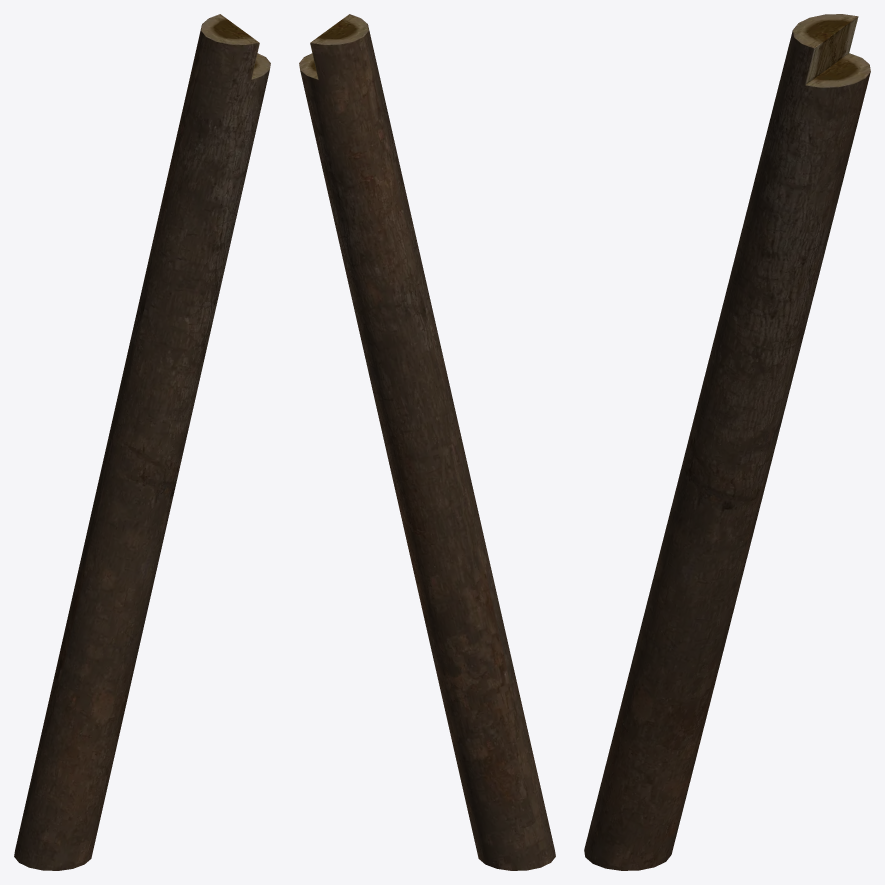
The model's file is ThreeSupportAB.glb.
3 views of the same model, side by side, from view 1: azimuth 30°, elevation 25°; view 2: azimuth 150°, elevation 25°; view 3: azimuth 330°, elevation 25° (orthographic). The views are drawn at different scales.
Visible parts, largest first — view 1: ThreeSupportAB; view 2: ThreeSupportAB; view 3: ThreeSupportAB.
Part boxes in pixels (x1,y1,x2,y2): ThreeSupportAB: [14, 14, 270, 870]; ThreeSupportAB: [299, 14, 555, 870]; ThreeSupportAB: [584, 14, 870, 870].
Size of the model in its own units: 0.7221 by 2.18 by 0.2001.
1 material, 1 textured.
